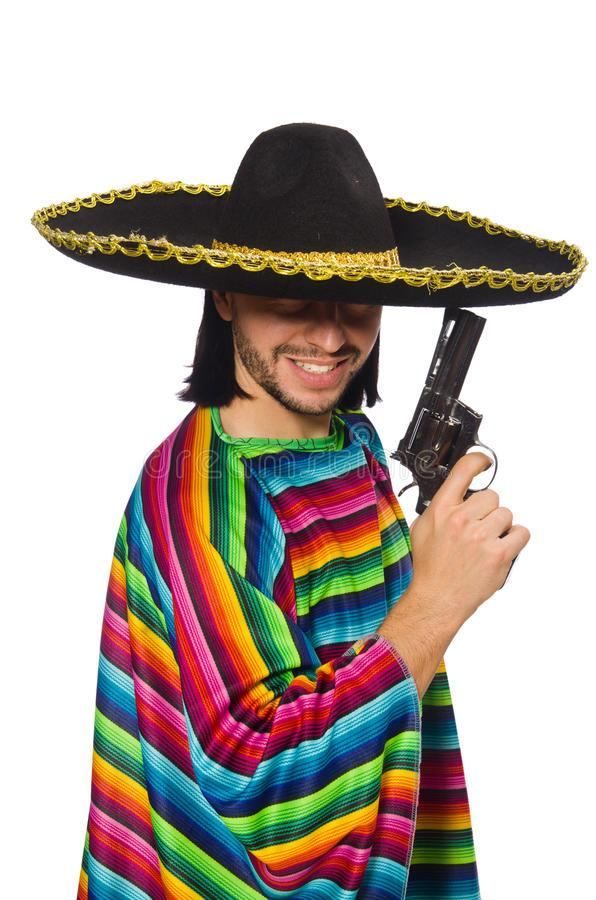criminal: (32, 118, 586, 900)
weapon: (390, 300, 488, 529)
